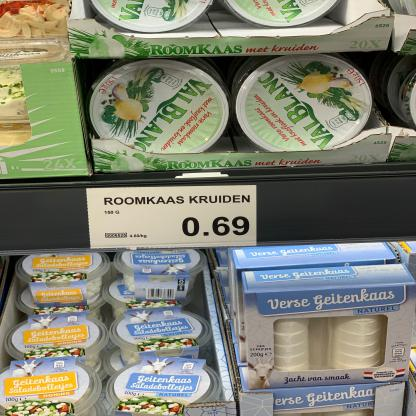prtg: (86, 186, 258, 250)
